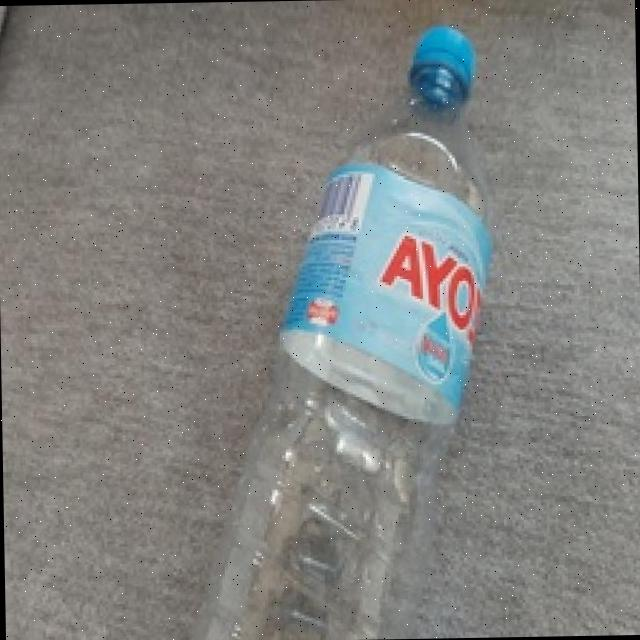bottle: (181, 19, 502, 639)
cap: (402, 23, 478, 96)
label: (273, 211, 492, 368)
